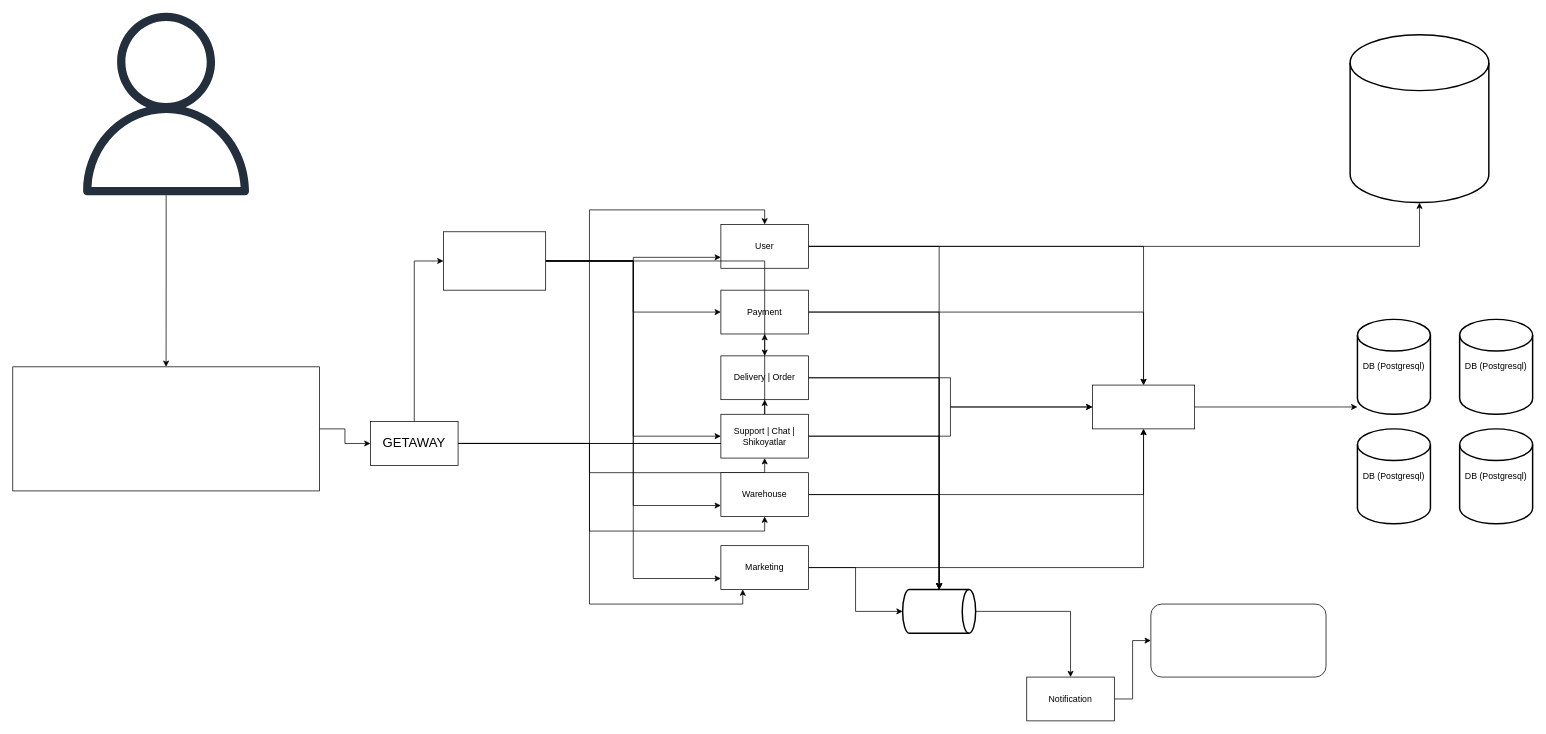
This 1546x734 diagram has some shape labels left out. The shapes that lost their labels are listed below. From the top down, each one's centre as x and y in pixels, then its label:
At point (1419, 118): "Redis cache".
At point (494, 260): "GETAWAY BFF".
At point (1143, 406): "PGbouncer".
At point (165, 428): "Frontend".
At point (939, 611): "RabbitMQ".
At point (1238, 640): "Celery".
